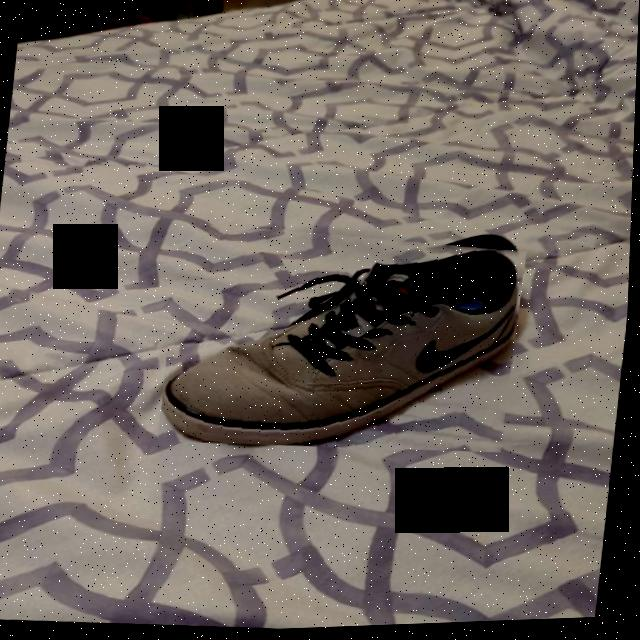shoe: (160, 213, 530, 466)
